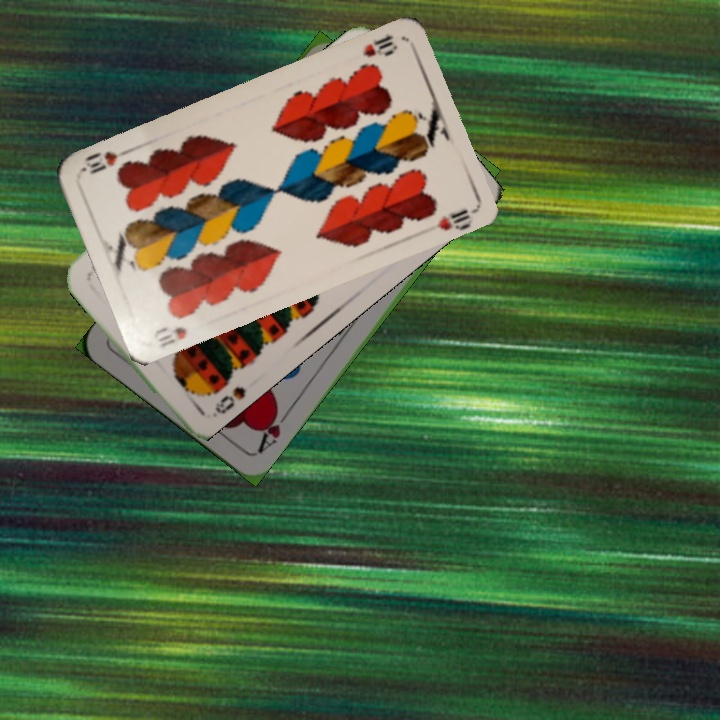H10: (359, 30, 400, 60), (149, 322, 189, 350)
HA: (253, 403, 294, 456)
S8: (208, 382, 249, 420)
